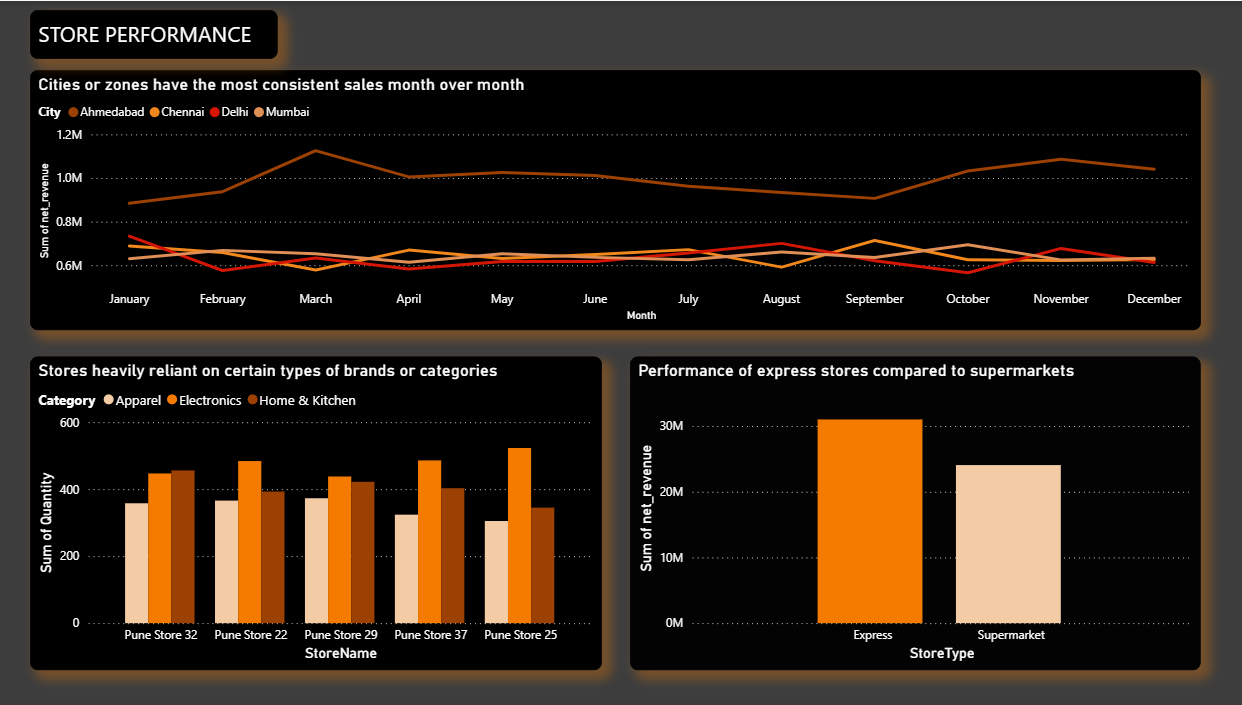

This screenshot's page, from the dashboard's own definition file:
{"tool":"powerbi","page":{"name":"Page 4","canvas":[1280,720],"ordinal":3},"visuals":[{"type":"lineChart","title":"Cities or zones have the most consistent sales month over month","fields":{"Category":["Sales.OrderDate.Variation.Date Hierarchy.Month"],"Y":["Sum(Sales.net_revenue)"],"Series":["Stores.City"]},"box":[33.4,70,1181.8,262.5],"z":0},{"type":"columnChart","title":"Performance of express stores compared to supermarkets","fields":{"Category":["Stores.StoreType"],"Y":["Sum(Sales.net_revenue)"]},"box":[639.4,359.5,575.8,316.5],"z":1000},{"type":"clusteredColumnChart","title":"Stores heavily reliant on certain types of brands or categories","fields":{"Category":["Stores.StoreName"],"Y":["Sum(Sales.Quantity)"],"Series":["Products.Category"]},"box":[33.4,359.5,577.4,316.5],"z":2000},{"type":"textbox","box":[33.4,9.5,249.7,49.3],"z":3000}]}

Visuals, with their boxes in screenshot pixels (x1, y1, x2, y2), scaled from the page's 1280x720 canvas onto the 1242x705 screenshot:
"Cities or zones have the most consistent sales month over month" lineChart: BBox(32, 69, 1179, 326)
"Performance of express stores compared to supermarkets" columnChart: BBox(620, 352, 1179, 662)
"Stores heavily reliant on certain types of brands or categories" clusteredColumnChart: BBox(32, 352, 593, 662)
textbox: BBox(32, 9, 275, 58)
